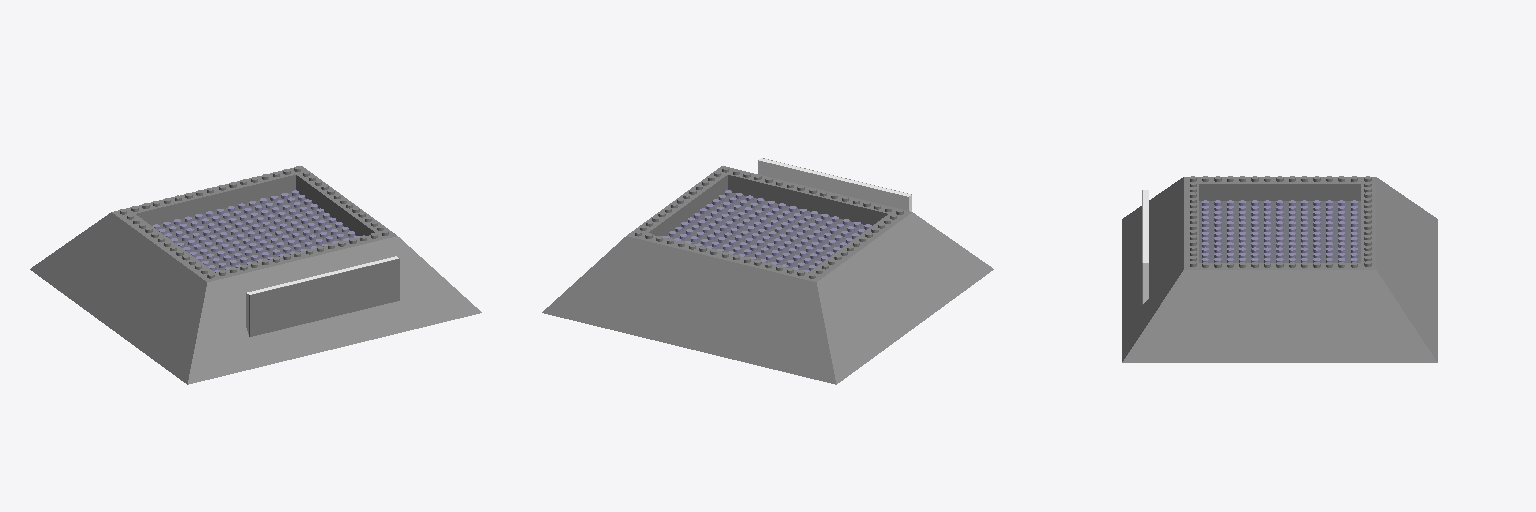
The picture shows the model from 3 angles: view 1: azimuth 30°, elevation 25°; view 2: azimuth 150°, elevation 25°; view 3: azimuth 270°, elevation 25°; orthographic projection.
Parts seen in each view (by area): view 1: Techo_de_Super_Mercado, Box004, Cylinder054, Techo_Super_Gris, Cylinder016, Cylinder011, Box003; view 2: Techo_de_Super_Mercado, Cylinder054, Techo_Super_Gris, Box003, Cylinder011, Cylinder016; view 3: Techo_de_Super_Mercado, Cylinder054, Techo_Super_Gris, Box003, Cylinder016, Cylinder011.
Boxes of the visible parts, x1=… form: Techo_de_Super_Mercado: x1=30, y1=166, x2=481, y2=384; Box004: x1=249, y1=258, x2=399, y2=336; Cylinder054: x1=153, y1=193, x2=348, y2=272; Techo_Super_Gris: x1=158, y1=193, x2=355, y2=269; Cylinder016: x1=120, y1=166, x2=300, y2=214; Cylinder011: x1=207, y1=230, x2=388, y2=278; Box003: x1=246, y1=256, x2=398, y2=333; Techo_de_Super_Mercado: x1=542, y1=166, x2=993, y2=384; Cylinder054: x1=674, y1=193, x2=871, y2=272; Techo_Super_Gris: x1=668, y1=193, x2=865, y2=270; Box003: x1=758, y1=158, x2=911, y2=211; Cylinder011: x1=722, y1=167, x2=903, y2=214; Cylinder016: x1=635, y1=231, x2=815, y2=278; Techo_de_Super_Mercado: x1=1122, y1=177, x2=1437, y2=362; Cylinder054: x1=1202, y1=200, x2=1357, y2=262; Techo_Super_Gris: x1=1199, y1=201, x2=1360, y2=262; Box003: x1=1143, y1=190, x2=1148, y2=303; Cylinder016: x1=1364, y1=176, x2=1371, y2=266; Cylinder011: x1=1190, y1=176, x2=1196, y2=266.
Bounding box in the file's own units: 55 × 12.5 × 51.
5 materials, 3 textured.